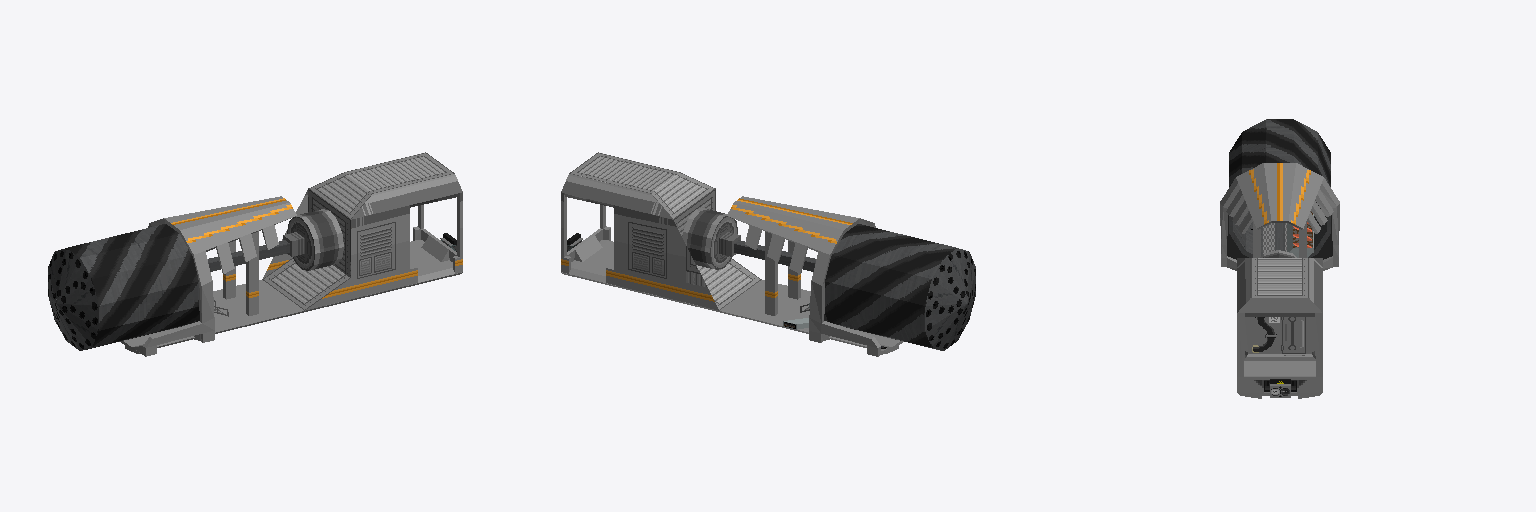
3 views of the same model, side by side, from view 1: azimuth 30°, elevation 25°; view 2: azimuth 150°, elevation 25°; view 3: azimuth 270°, elevation 25° (orthographic).
Parts seen in each view (by area): view 1: SHELL, BORER, FRAME; view 2: SHELL, BORER, FRAME; view 3: SHELL, FRAME, BORER, CAB.
Boxes of the visible parts, box(x1,y1,x2,y2) form: SHELL: box(262, 152, 462, 310); BORER: box(48, 224, 289, 350); FRAME: box(120, 196, 462, 356); SHELL: box(561, 152, 761, 310); BORER: box(734, 224, 975, 350); FRAME: box(561, 196, 903, 356); SHELL: box(1237, 250, 1322, 397); FRAME: box(1220, 163, 1339, 398); BORER: box(1229, 119, 1330, 257); CAB: box(1227, 211, 1332, 259).
Bounding box in the file's own units: 12.91 × 3.24 × 3.38.
4 materials, 4 textured.